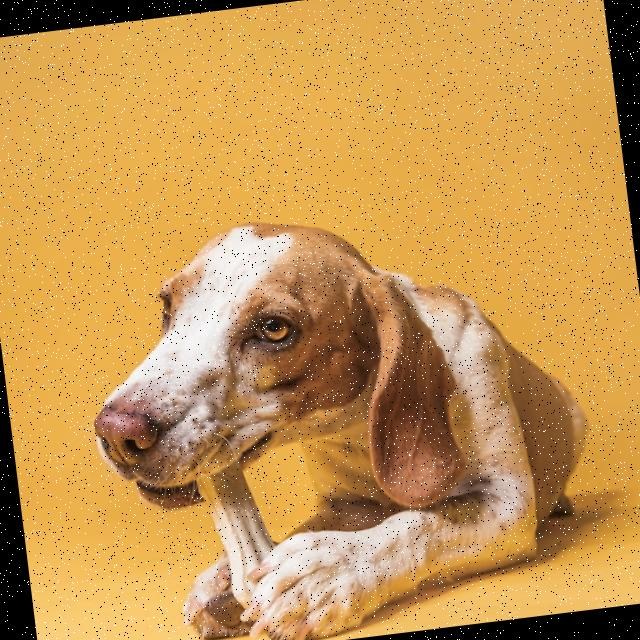Dog: (73, 185, 612, 640)
